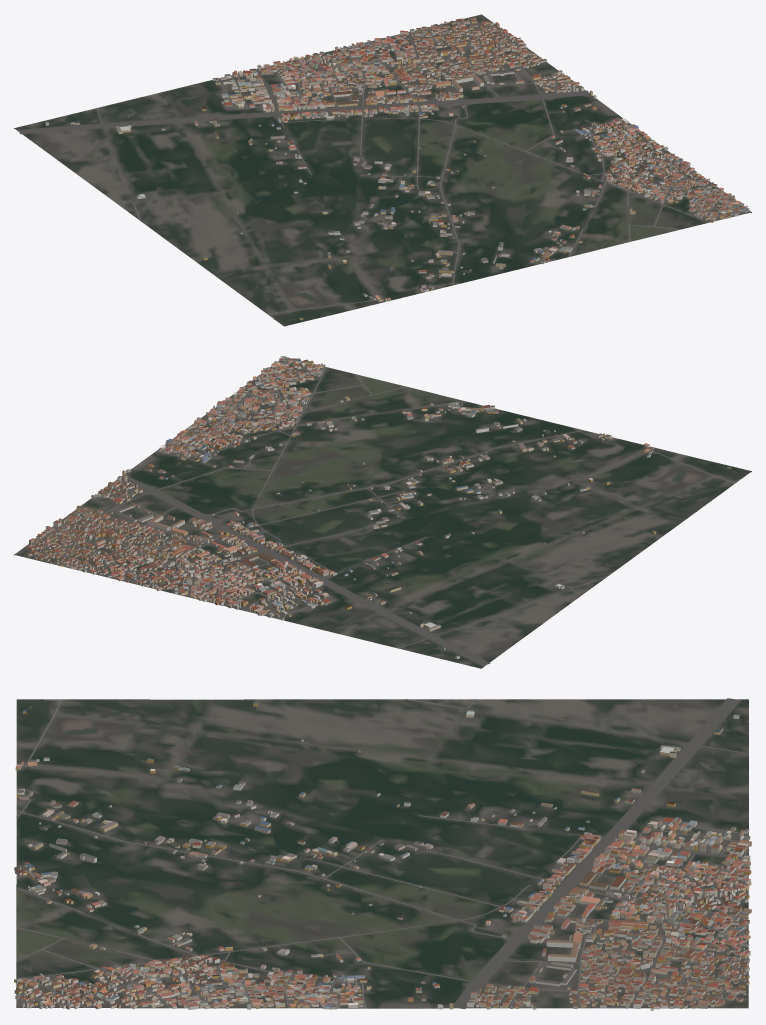
3 views of the same model, one above another, from view 1: azimuth 30°, elevation 25°; view 2: azimuth 150°, elevation 25°; view 3: azimuth 270°, elevation 25° (orthographic). The views are drawn at different scales.
Parts seen in each view (by area): view 1: ground, buildings, roads; view 2: ground, buildings, roads; view 3: ground, buildings, roads.
Boxes of the visible parts, bbox=[...] form: ground: bbox=[14, 14, 751, 326]; buildings: bbox=[45, 16, 749, 319]; roads: bbox=[18, 17, 747, 319]; ground: bbox=[14, 358, 751, 668]; buildings: bbox=[25, 356, 730, 659]; roads: bbox=[27, 357, 742, 666]; ground: bbox=[16, 699, 748, 1008]; buildings: bbox=[14, 702, 751, 1010]; roads: bbox=[16, 698, 749, 1008].
Size of the model in its own units: 1414 by 24.03 by 1413.
